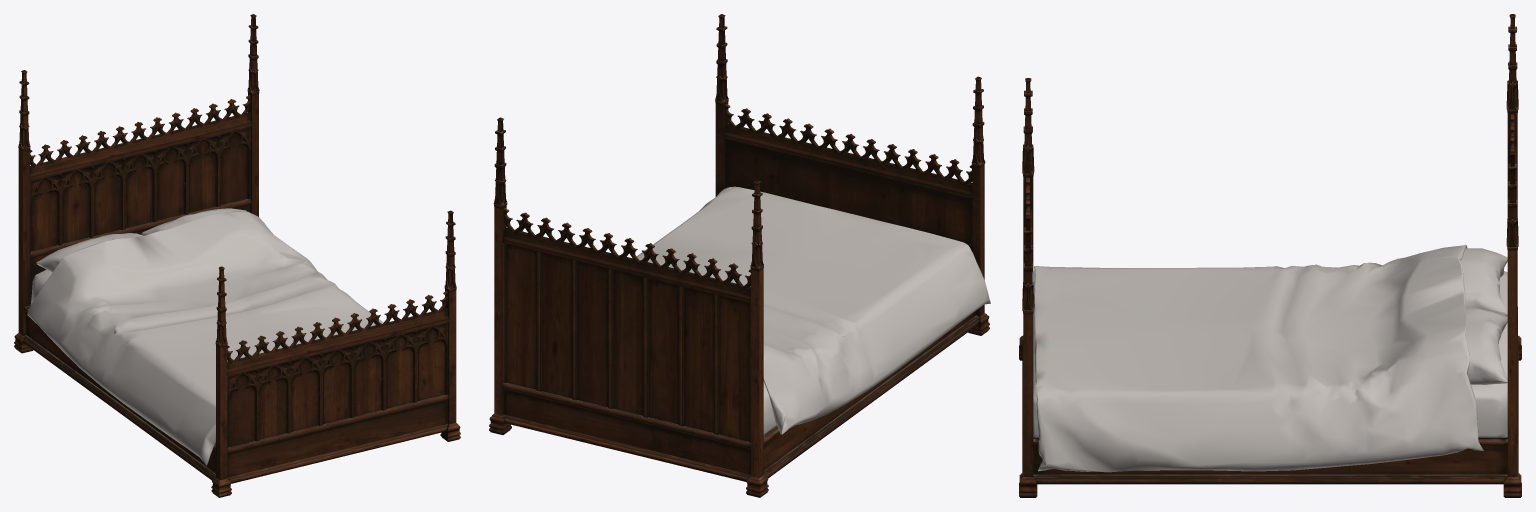
File: GothicBed_01.glb
The picture shows the model from 3 angles, left to right: view 1: azimuth 30°, elevation 25°; view 2: azimuth 150°, elevation 25°; view 3: azimuth 270°, elevation 25°; orthographic projection. The views are drawn at different scales.
Parts seen in each view (by area): view 1: GothicBed_01; view 2: GothicBed_01; view 3: GothicBed_01.
Part boxes in pixels (x1,y1,x2,y2): GothicBed_01: (14, 14, 460, 497); GothicBed_01: (489, 14, 990, 497); GothicBed_01: (1019, 14, 1521, 497).
Bounding box in the file's own units: 1.49 × 1.53 × 2.04.
Materials: 1 (1 with a texture image).
